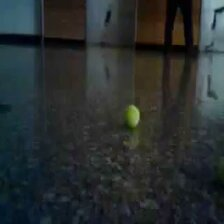tennis: (123, 105, 141, 129)
